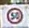limite 30: (6, 7, 22, 24)
limite 50: (6, 6, 22, 24)
